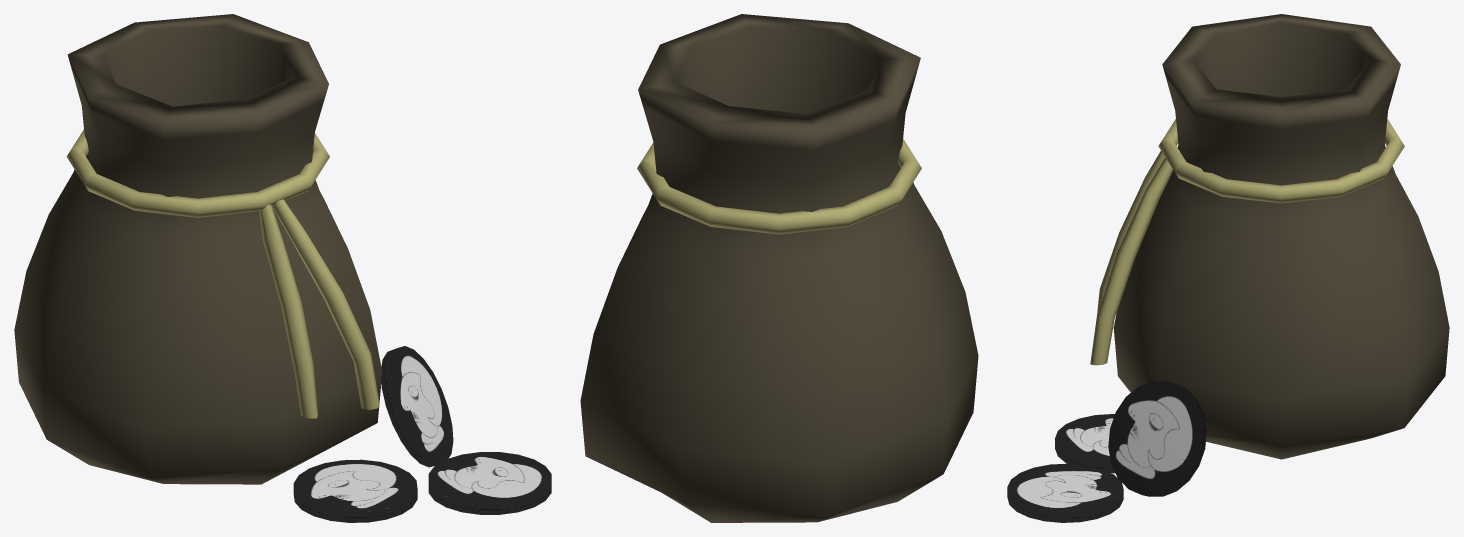
File: CoinBag.fbx
3 renders of one model, left to right at view 1: azimuth 30°, elevation 25°; view 2: azimuth 150°, elevation 25°; view 3: azimuth 270°, elevation 25°, orthographic. The views are drawn at different scales.
Parts seen in each view (by area): view 1: CoinBag; view 2: CoinBag; view 3: CoinBag.
Part boxes in pixels (x1,y1,x2,y2): CoinBag: [14, 14, 551, 522]; CoinBag: [580, 14, 978, 522]; CoinBag: [1007, 14, 1449, 522].
Bounding box in the file's own units: 52.13 × 49.85 × 55.36.
